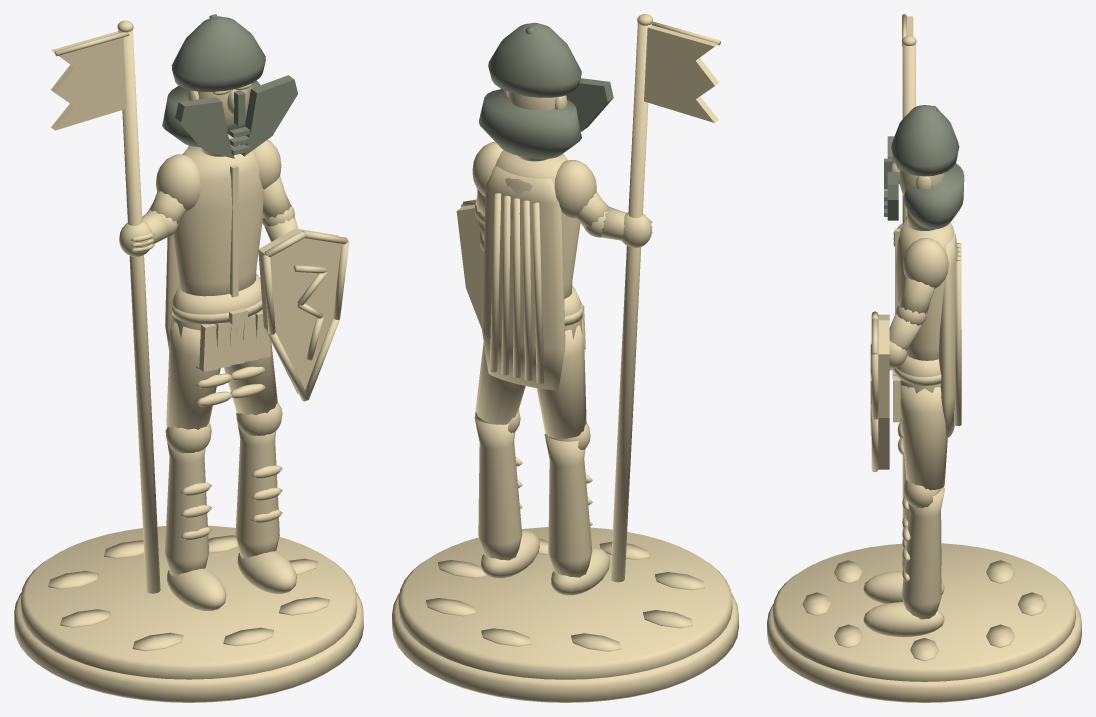
Rendered from knight-beige-level-3-helmet.fbx.
3 renders of one model, left to right at view 1: azimuth 30°, elevation 25°; view 2: azimuth 150°, elevation 25°; view 3: azimuth 270°, elevation 25°, orthographic. The views are drawn at different scales.
Parts seen in each view (by area): view 1: Knight_Level_3_Helmet_Sculpt; view 2: Knight_Level_3_Helmet_Sculpt; view 3: Knight_Level_3_Helmet_Sculpt.
Part boxes in pixels (left/top/right/bottom): Knight_Level_3_Helmet_Sculpt: left=14, top=14, right=363, bottom=702; Knight_Level_3_Helmet_Sculpt: left=392, top=14, right=738, bottom=702; Knight_Level_3_Helmet_Sculpt: left=767, top=14, right=1081, bottom=702.
Size of the model in its own units: 0.012 by 0.024 by 0.012.
